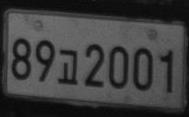0: (132, 46, 153, 92), (108, 45, 129, 90)
1: (158, 49, 180, 93)
2: (84, 43, 104, 88)
8: (10, 37, 32, 81)
9: (35, 39, 56, 83)
고: (57, 48, 78, 84)
